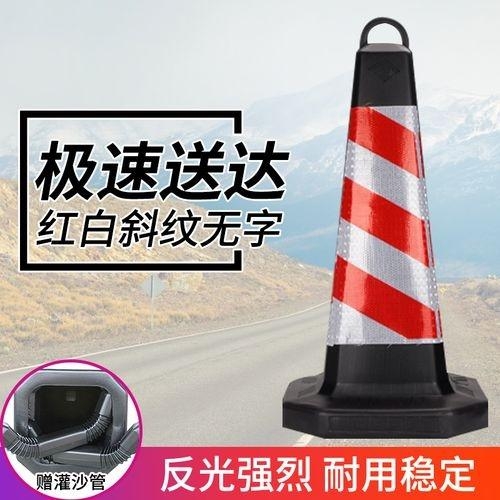cone_barrel: (293, 35, 478, 431)
